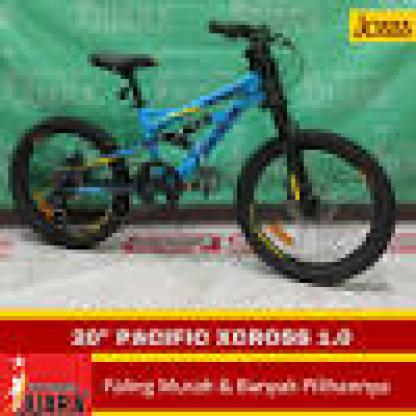Bike: (13, 17, 400, 284)
